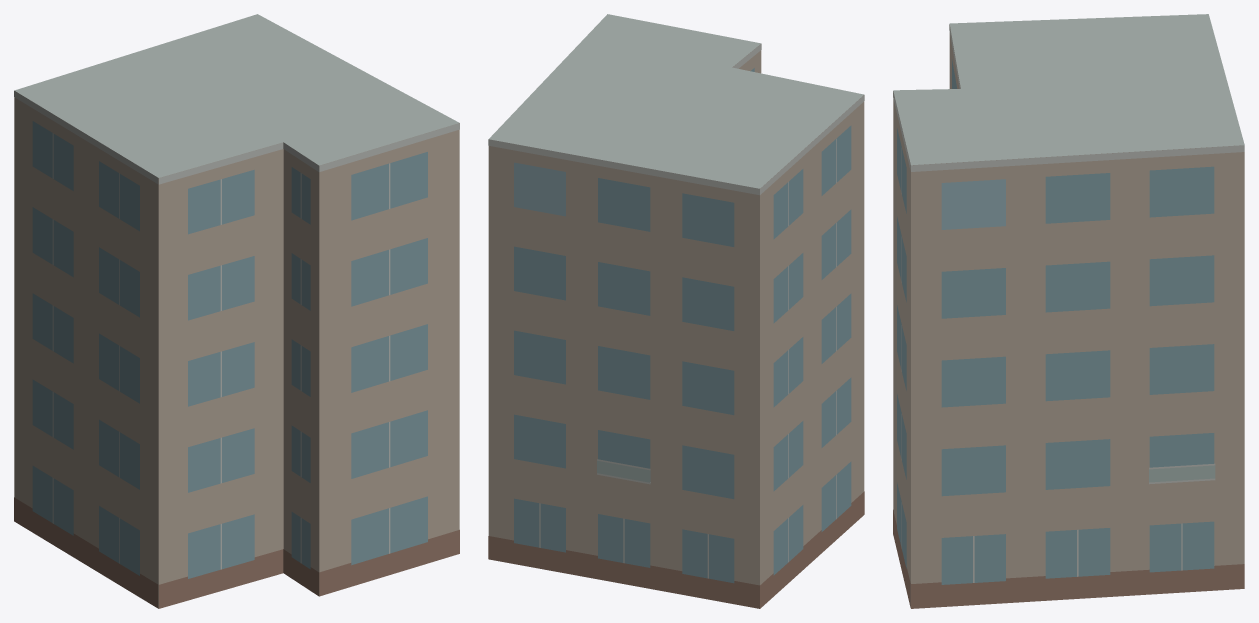
Rendered from survey-upis-32846130.glb.
3 views of the same model, side by side, from view 1: azimuth 30°, elevation 25°; view 2: azimuth 150°, elevation 25°; view 3: azimuth 270°, elevation 25° (orthographic). The views are drawn at different scales.
Visible parts, largest first — view 1: survey-upis-32846130.tmp; view 2: survey-upis-32846130.tmp; view 3: survey-upis-32846130.tmp.
Boxes of the visible parts, <box> form: survey-upis-32846130.tmp: <box>14,14,459,608</box>; survey-upis-32846130.tmp: <box>488,14,864,608</box>; survey-upis-32846130.tmp: <box>893,14,1244,608</box>.
Bounding box in the file's own units: 11.57 × 15.82 × 11.37.
